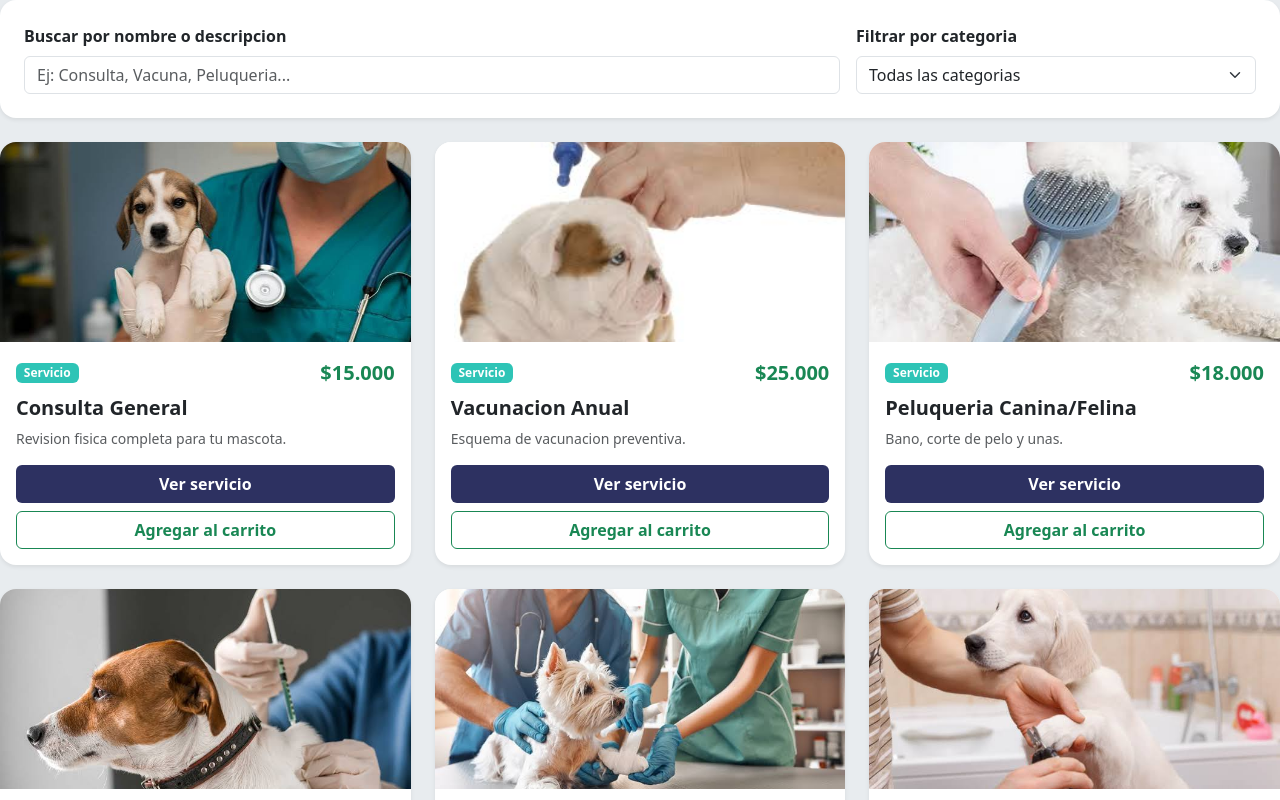
Test: Prueba 10: filtrar por categoria
Select "Medicamento" in the dropdown at point(1056, 75), box [856,56,1256,94]
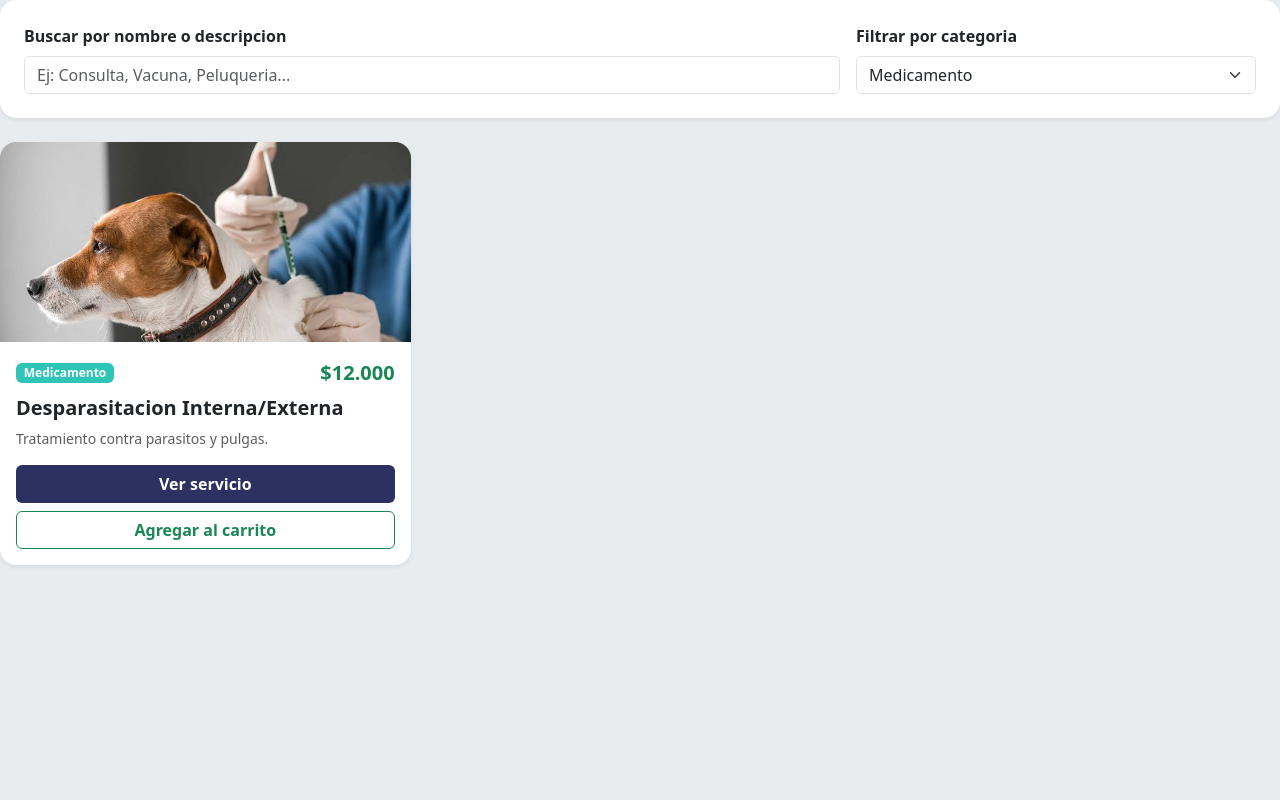
Expected: the heading "Desparasitacion Interna/Externa" is shown, [16,396,395,420]
Expected: the heading "Consulta General" is gone
